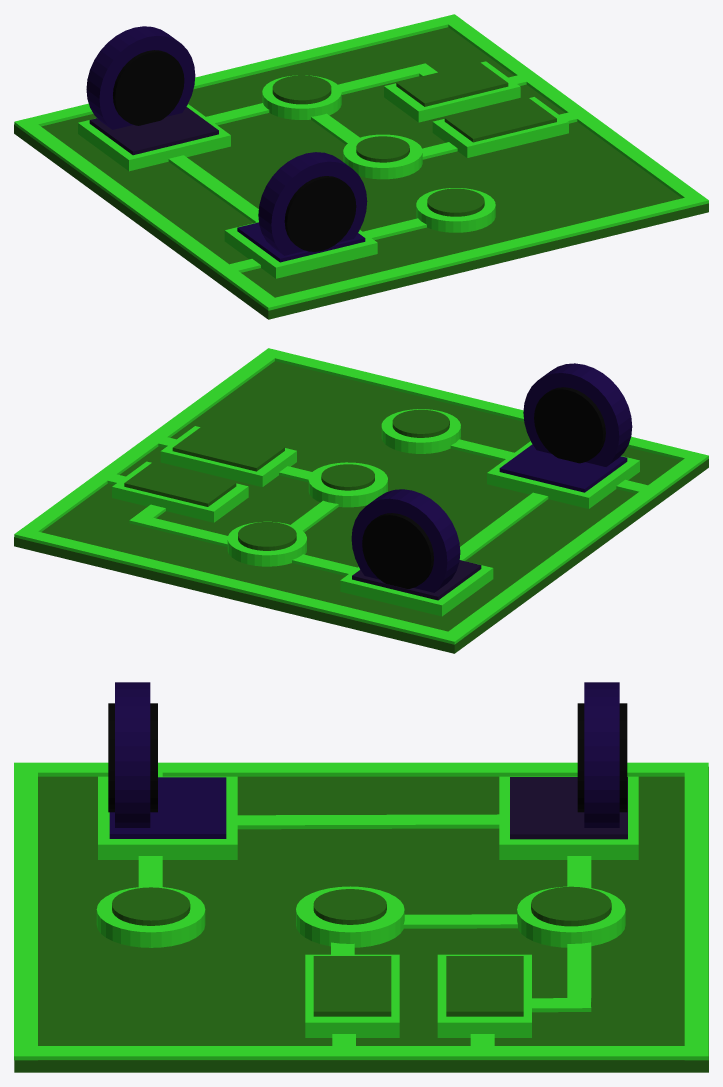
The model's file is Board.fbx.
The picture shows the model from 3 angles, top to bottom: view 1: azimuth 30°, elevation 25°; view 2: azimuth 150°, elevation 25°; view 3: azimuth 270°, elevation 25°; orthographic projection. The views are drawn at different scales.
Parts seen in each view (by area): view 1: Cube, Cube.001, Cylinder.019, Cube.004, Cylinder.021, Cube.003, Cylinder.018, Cylinder.022, Cube.002, Cube.019, Cube.021, Cube.020 (+16 smaller); view 2: Cube, Cube.002, Cylinder.019, Cylinder.021, Cube.003, Cube.004, Cylinder.018, Cylinder.022, Cube.001, Cube.018, Cube.021, Cube.020 (+16 smaller); view 3: Cube, Cube.003, Cube.004, Cube.002, Cube.001, Cylinder.019, Cylinder.021, Cube.019, Cube.018, Cube.021, Cube.020, Cube.008 (+17 smaller).
Boxes of the visible parts, <box> form: Cube: <box>14,27,708,319</box>; Cube.001: <box>259,197,693,310</box>; Cylinder.019: <box>258,152,367,255</box>; Cube.004: <box>15,119,283,310</box>; Cylinder.021: <box>86,26,195,129</box>; Cube.003: <box>441,14,708,206</box>; Cylinder.018: <box>284,176,356,251</box>; Cylinder.022: <box>113,50,184,125</box>; Cube.002: <box>14,14,462,130</box>; Cube.019: <box>89,107,218,155</box>; Cube.021: <box>444,98,556,142</box>; Cube.020: <box>396,62,508,106</box>; Cube: <box>14,361,708,653</box>; Cube.002: <box>29,531,463,644</box>; Cylinder.019: <box>523,363,632,466</box>; Cylinder.021: <box>351,489,460,592</box>; Cube.003: <box>14,348,281,540</box>; Cube.004: <box>439,452,705,644</box>; Cylinder.018: <box>534,387,605,463</box>; Cylinder.022: <box>362,513,433,588</box>; Cube.001: <box>260,348,708,464</box>; Cube.018: <box>499,444,627,492</box>; Cube.021: <box>172,427,284,471</box>; Cube.020: <box>124,462,236,506</box>; Cube: <box>14,767,708,1072</box>; Cube.003: <box>34,1046,708,1059</box>; Cube.004: <box>14,762,708,776</box>; Cube.002: <box>684,762,708,1060</box>; Cube.001: <box>14,762,37,1060</box>; Cylinder.019: <box>115,682,150,827</box>; Cylinder.021: <box>584,682,619,827</box>; Cube.019: <box>510,777,627,839</box>; Cube.018: <box>109,777,226,838</box>; Cube.021: <box>313,956,391,1016</box>; Cube.020: <box>446,956,523,1016</box>; Cube.008: <box>98,776,237,859</box>.
Size of the model in its own units: 784 by 184 by 784.
